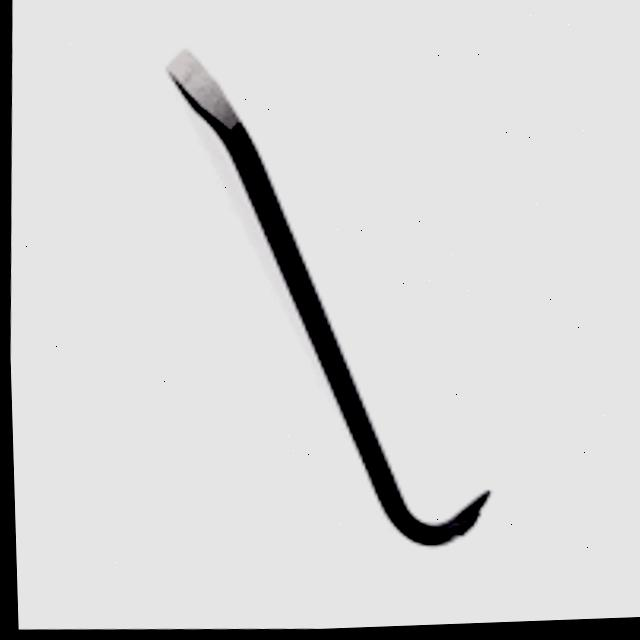crow bar: (139, 25, 512, 572)
